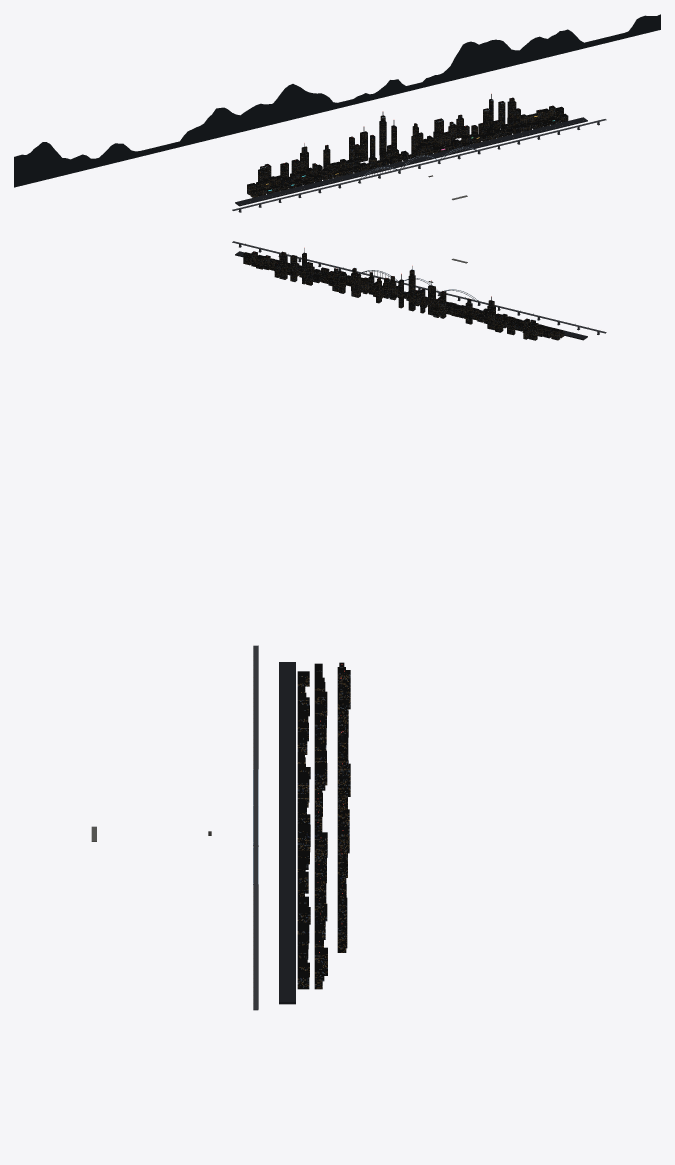
File: riverside.glb
The picture shows the model from 3 angles, top to bottom: view 1: azimuth 30°, elevation 25°; view 2: azimuth 150°, elevation 25°; view 3: azimuth 270°, elevation 25°; orthographic projection. The views are drawn at different scales.
Visible parts, largest first — view 1: hills, city, far_bank, bridge; view 2: city, bridge; view 3: city, far_bank, bridge.
Part boxes in pixels (x1,y1,x2,y2): hills: (14, 14, 660, 187); city: (247, 97, 568, 197); far_bank: (235, 117, 587, 206); bridge: (232, 119, 606, 212); city: (243, 251, 564, 340); bridge: (232, 241, 606, 334); city: (297, 662, 350, 989); far_bank: (279, 662, 295, 1004); bridge: (253, 645, 258, 1010).
Size of the model in its own units: 5200 by 345 by 1712.
16 materials, 1 textured.
